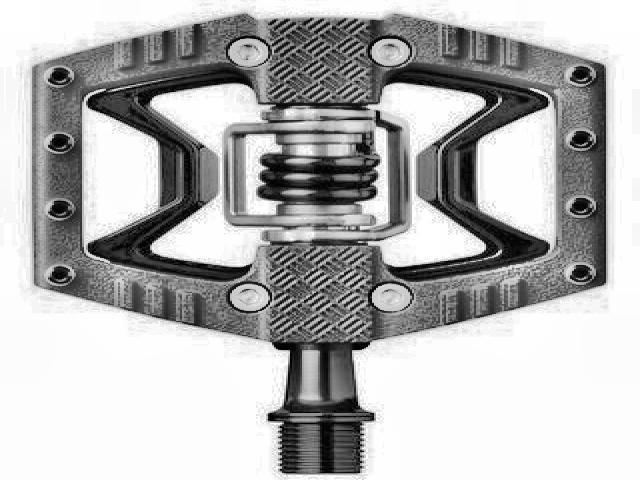pedal: (28, 9, 616, 474)
